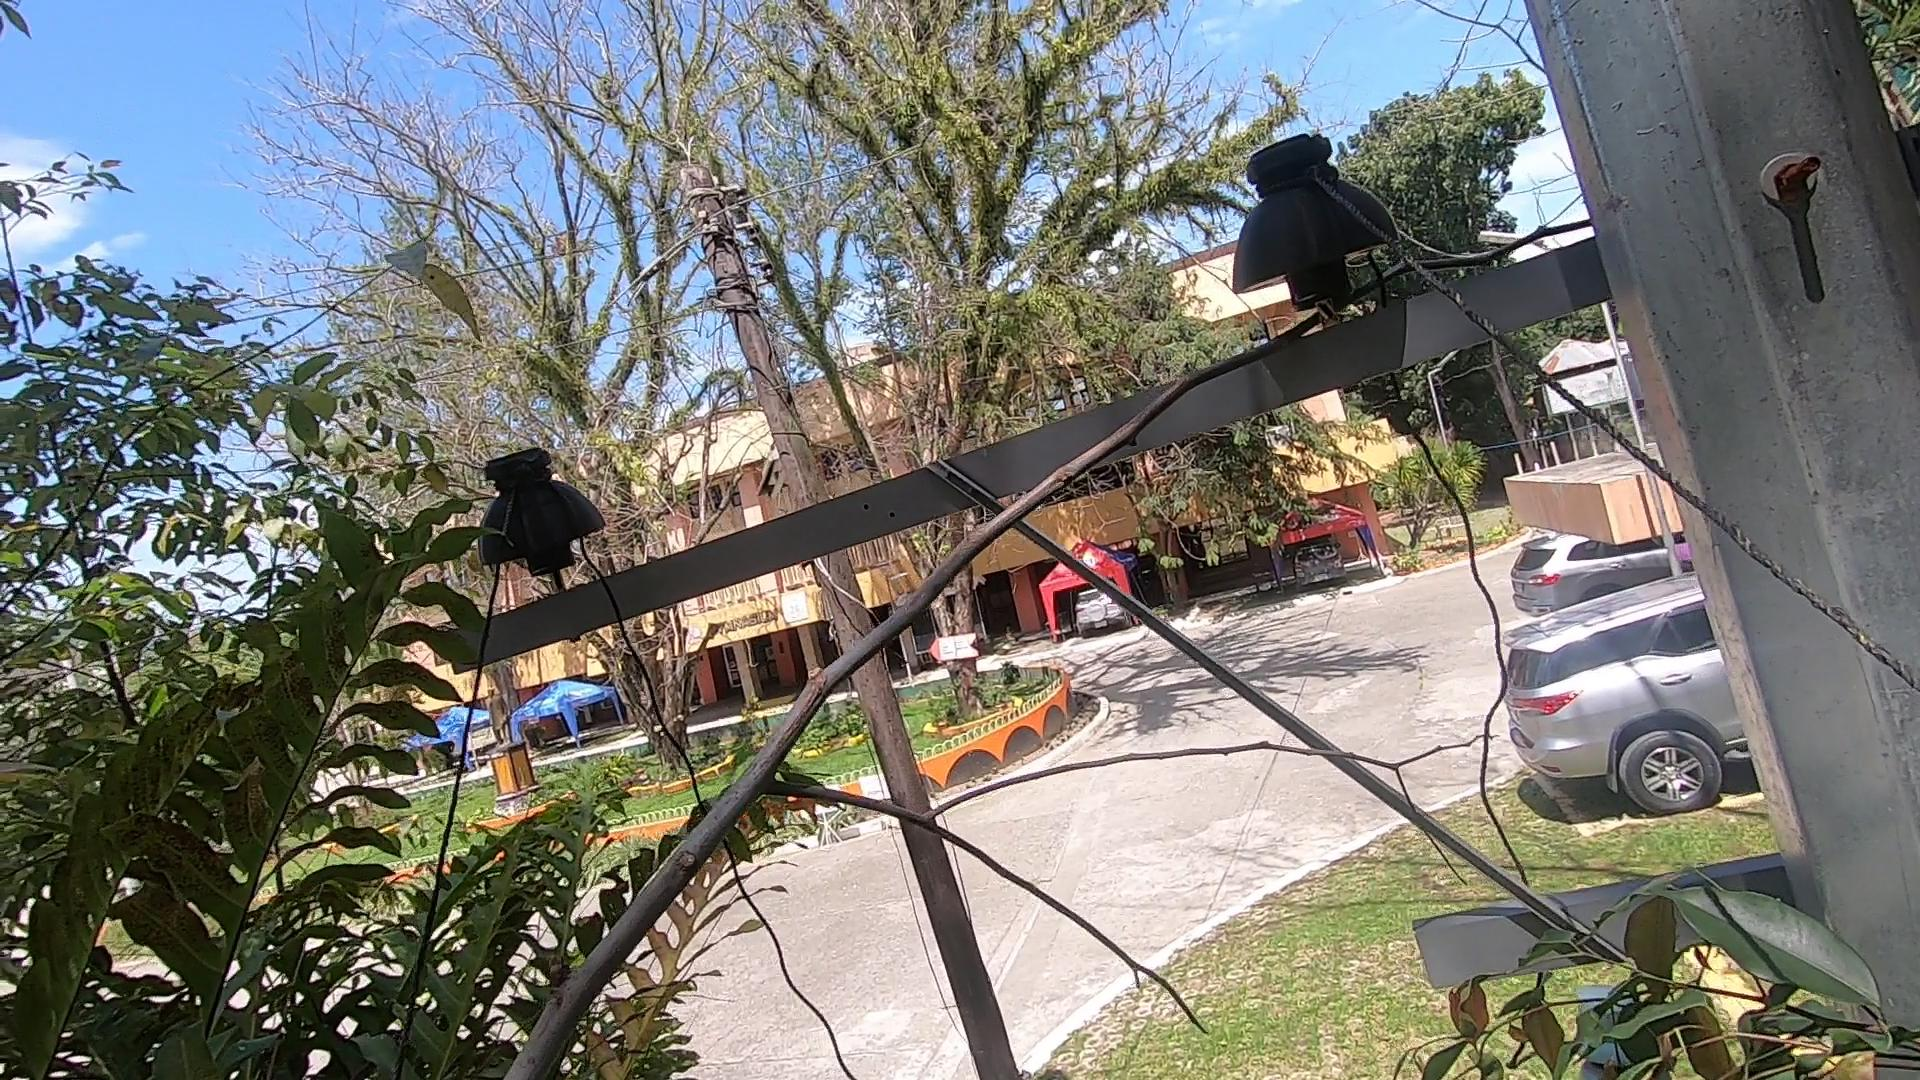branch with leaves: (1396, 878, 1884, 1080)
tree branch: (305, 270, 1804, 1077)
